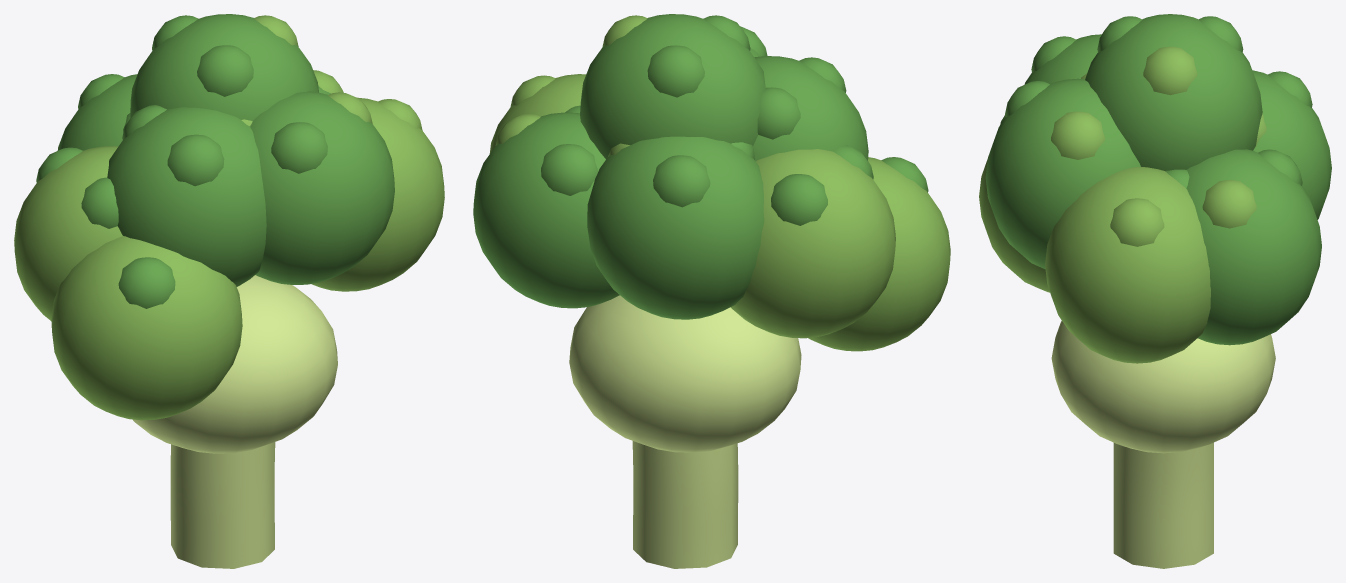
File: broccoli.glb
3 renders of one model, left to right at view 1: azimuth 30°, elevation 25°; view 2: azimuth 150°, elevation 25°; view 3: azimuth 270°, elevation 25°, orthographic.
Visible parts, largest first — view 1: Broccoli | rounded crown floret.014, Broccoli | rounded crown floret.009, Broccoli | rounded crown floret.008, Broccoli | stem cap.001, Broccoli | thick edible stem.001, Broccoli | rounded crown floret.011, Broccoli | rounded crown floret.012, Broccoli | rounded crown floret.010, Broccoli | rounded crown floret.015, Broccoli | crown bump.024, Broccoli | crown bump.032, Broccoli | crown bump.039 (+9 smaller); view 2: Broccoli | stem cap.001, Broccoli | rounded crown floret.015, Broccoli | rounded crown floret.012, Broccoli | rounded crown floret.013, Broccoli | rounded crown floret.011, Broccoli | thick edible stem.001, Broccoli | rounded crown floret.014, Broccoli | rounded crown floret.008, Broccoli | crown bump.031, Broccoli | crown bump.034, Broccoli | crown bump.047, Broccoli | crown bump.046 (+8 smaller); view 3: Broccoli | rounded crown floret.010, Broccoli | stem cap.001, Broccoli | rounded crown floret.011, Broccoli | rounded crown floret.013, Broccoli | rounded crown floret.009, Broccoli | thick edible stem.001, Broccoli | rounded crown floret.015, Broccoli | rounded crown floret.014, Broccoli | crown bump.029, Broccoli | crown bump.036, Broccoli | crown bump.026, Broccoli | crown bump.033 (+7 smaller).
Part boxes in pixels (x1,y1,x2,y2): Broccoli | rounded crown floret.014: [51, 236, 242, 420]; Broccoli | rounded crown floret.009: [250, 91, 394, 284]; Broccoli | rounded crown floret.008: [107, 107, 266, 286]; Broccoli | stem cap.001: [132, 275, 337, 453]; Broccoli | thick edible stem.001: [170, 442, 275, 568]; Broccoli | rounded crown floret.011: [130, 14, 318, 120]; Broccoli | rounded crown floret.012: [14, 146, 122, 320]; Broccoli | rounded crown floret.010: [311, 97, 444, 291]; Broccoli | rounded crown floret.015: [57, 74, 137, 150]; Broccoli | crown bump.024: [118, 257, 175, 308]; Broccoli | crown bump.032: [167, 134, 224, 186]; Broccoli | crown bump.039: [271, 122, 327, 173]; Broccoli | stem cap.001: [569, 295, 801, 452]; Broccoli | rounded crown floret.015: [587, 136, 764, 319]; Broccoli | rounded crown floret.012: [730, 149, 895, 338]; Broccoli | rounded crown floret.013: [473, 112, 619, 308]; Broccoli | rounded crown floret.011: [580, 14, 765, 159]; Broccoli | thick edible stem.001: [632, 441, 738, 568]; Broccoli | rounded crown floret.014: [808, 157, 950, 351]; Broccoli | rounded crown floret.008: [753, 56, 868, 161]; Broccoli | crown bump.031: [771, 174, 827, 225]; Broccoli | crown bump.034: [653, 155, 710, 207]; Broccoli | crown bump.047: [541, 144, 597, 195]; Broccoli | crown bump.046: [647, 45, 704, 97]; Broccoli | rounded crown floret.010: [1045, 167, 1210, 363]; Broccoli | stem cap.001: [1051, 321, 1275, 453]; Broccoli | rounded crown floret.011: [1085, 14, 1262, 171]; Broccoli | rounded crown floret.013: [1186, 149, 1321, 345]; Broccoli | rounded crown floret.009: [985, 78, 1140, 269]; Broccoli | thick edible stem.001: [1113, 442, 1213, 568]; Broccoli | rounded crown floret.015: [1252, 70, 1331, 219]; Broccoli | rounded crown floret.014: [979, 159, 1049, 292]; Broccoli | crown bump.029: [1051, 111, 1104, 159]; Broccoli | crown bump.036: [1143, 46, 1197, 95]; Broccoli | crown bump.026: [1110, 198, 1164, 246]; Broccoli | crown bump.033: [1202, 180, 1256, 228].
Bounding box in the file's own units: 1.43 × 1.76 × 1.07.
